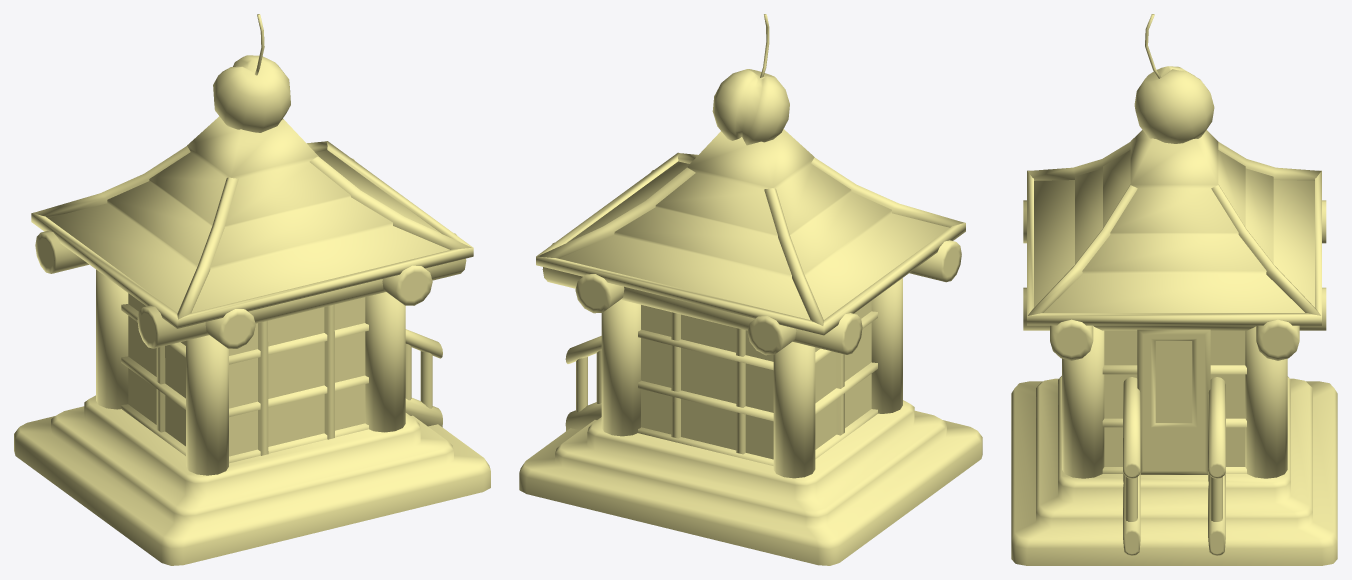
File: house_marzi.fbx
The picture shows the model from 3 angles, left to right: view 1: azimuth 30°, elevation 25°; view 2: azimuth 150°, elevation 25°; view 3: azimuth 270°, elevation 25°; orthographic projection. The views are drawn at different scales.
Parts seen in each view (by area): view 1: house_marzi; view 2: house_marzi; view 3: house_marzi.
Boxes of the visible parts, x1,y1,x2,y2 form: house_marzi: (14, 14, 490, 565); house_marzi: (519, 14, 982, 565); house_marzi: (1011, 14, 1337, 565).
Bounding box in the file's own units: 4410 × 5941 × 3752.
